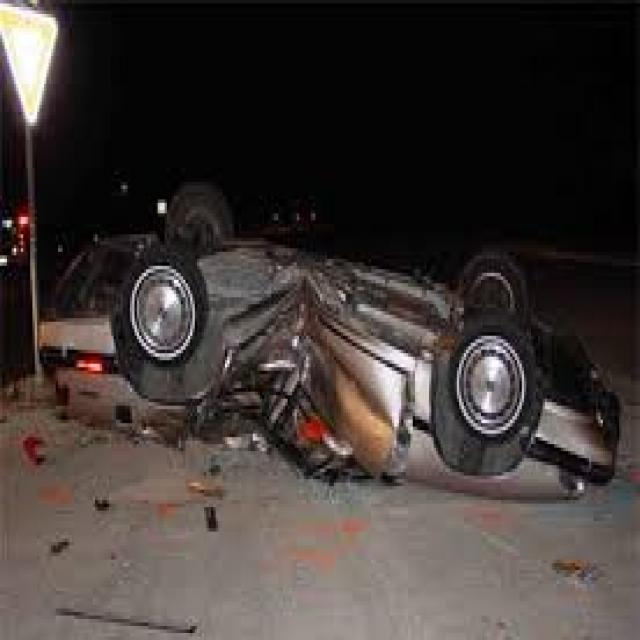accident: (30, 202, 619, 532)
